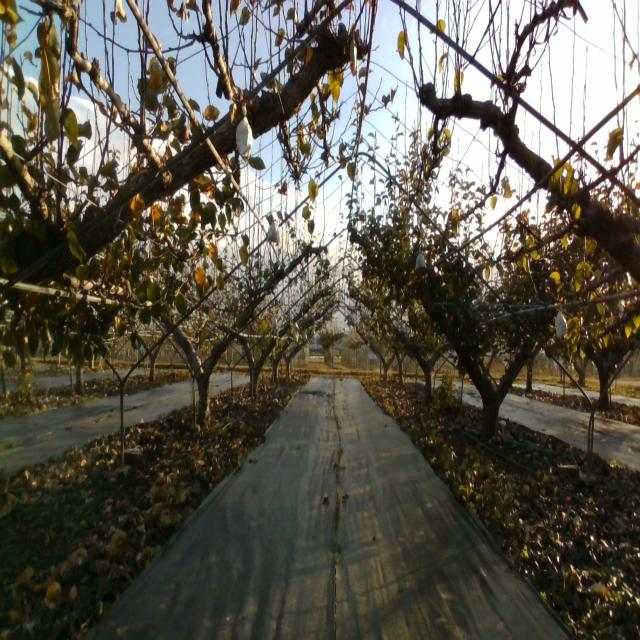pearbags: (236, 105, 254, 163), (554, 309, 568, 337), (266, 219, 281, 244), (414, 252, 428, 271)
